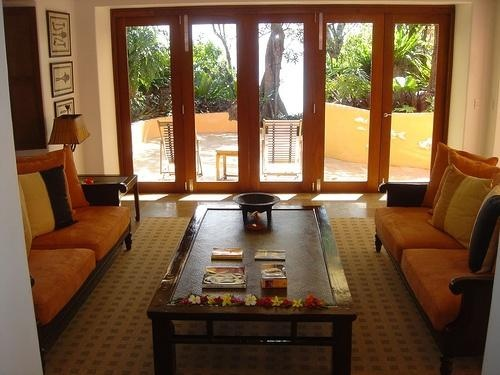sofa: (373, 142, 500, 374), (14, 146, 137, 361)
